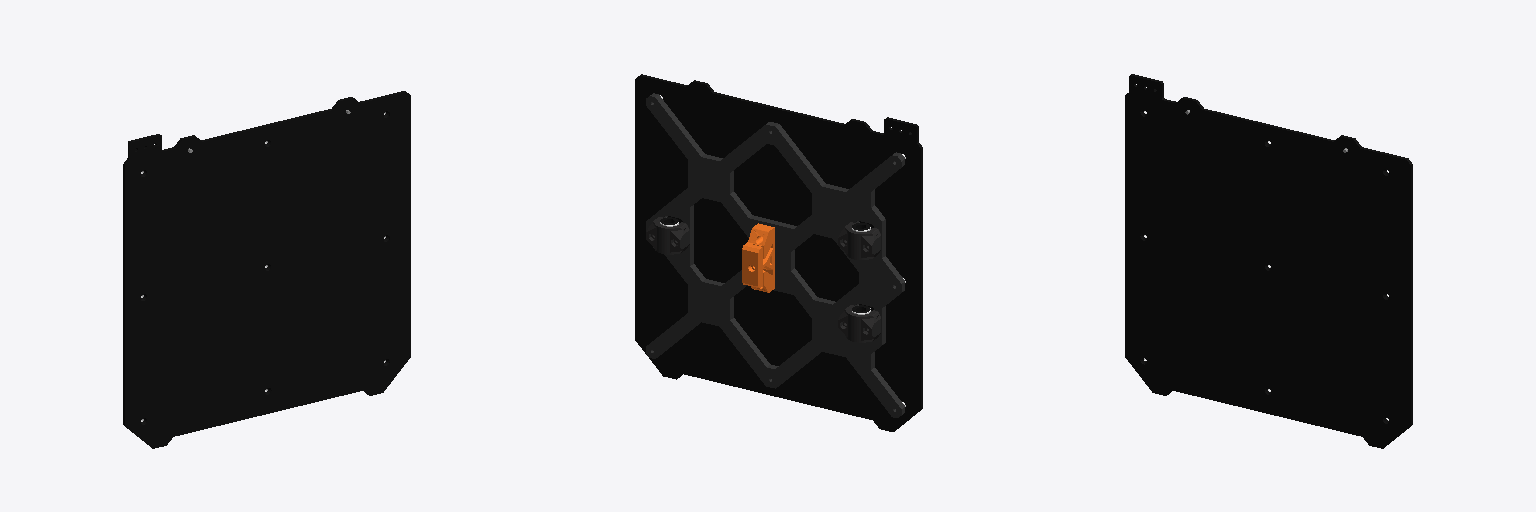
The model's file is bear21_mk3s_simulator_y-axis.obj.
3 renders of one model, left to right at view 1: azimuth 30°, elevation 25°; view 2: azimuth 150°, elevation 25°; view 3: azimuth 330°, elevation 25°, orthographic.
Parts seen in each view (by area): view 1: heatbed_mk52_24v v1:1; view 2: heatbed_mk52_24v v1:1, y_carriage_mk3 v2:1, y_bearing_holder:1, y_belt_holder:1; view 3: heatbed_mk52_24v v1:1.
Part boxes in pixels (left/top/right/bottom): heatbed_mk52_24v v1:1: left=123, top=91, right=410, bottom=448; heatbed_mk52_24v v1:1: left=635, top=74, right=922, bottom=431; y_carriage_mk3 v2:1: left=646, top=93, right=904, bottom=417; y_bearing_holder:1: left=646, top=217, right=880, bottom=342; y_belt_holder:1: left=742, top=223, right=774, bottom=292; heatbed_mk52_24v v1:1: left=1125, top=74, right=1412, bottom=448.
Size of the model in its own units: 25.4 by 26.44 by 4.35.